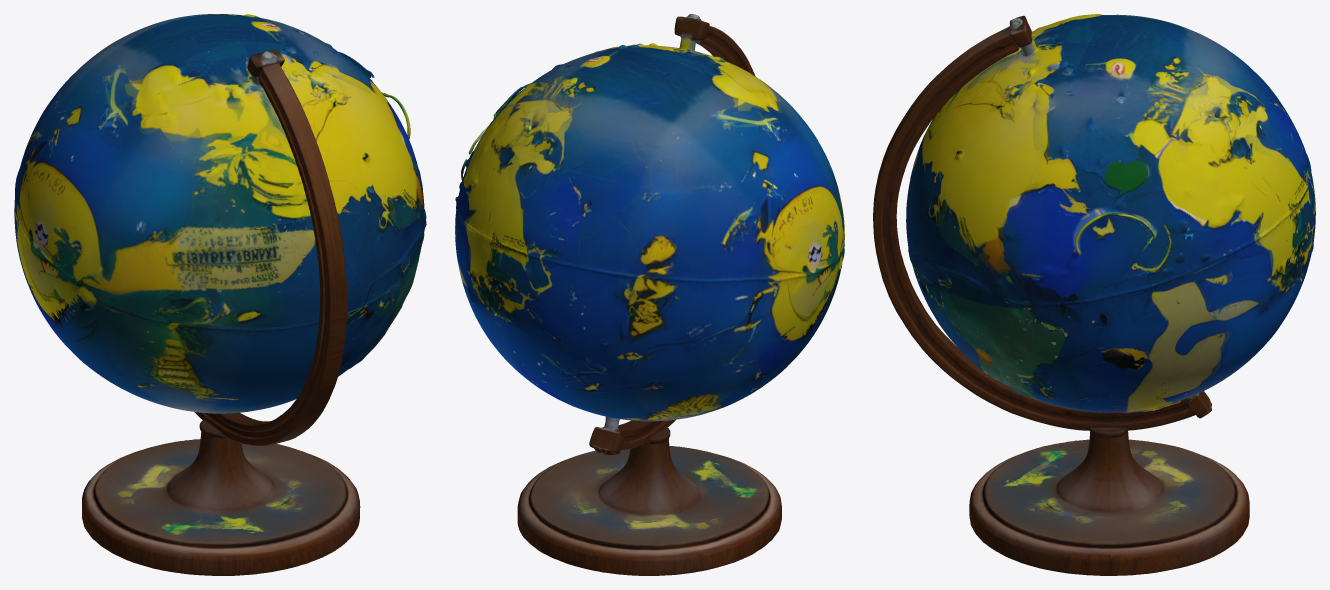
File: prop-globe-vintage.glb
3 views of the same model, side by side, from view 1: azimuth 30°, elevation 25°; view 2: azimuth 150°, elevation 25°; view 3: azimuth 270°, elevation 25° (orthographic). The views are drawn at different scales.
Visible parts, largest first — view 1: tripo_node_2aead6ab-9cec-4eb1-9fc6-69281efb238b; view 2: tripo_node_2aead6ab-9cec-4eb1-9fc6-69281efb238b; view 3: tripo_node_2aead6ab-9cec-4eb1-9fc6-69281efb238b.
Part boxes in pixels (bbox=[...]): tripo_node_2aead6ab-9cec-4eb1-9fc6-69281efb238b: bbox=[14, 14, 426, 575]; tripo_node_2aead6ab-9cec-4eb1-9fc6-69281efb238b: bbox=[455, 14, 844, 575]; tripo_node_2aead6ab-9cec-4eb1-9fc6-69281efb238b: bbox=[873, 14, 1315, 575].
Bounding box in the file's own units: 1.12 × 1.5 × 1.2.
1 material, 1 textured.
